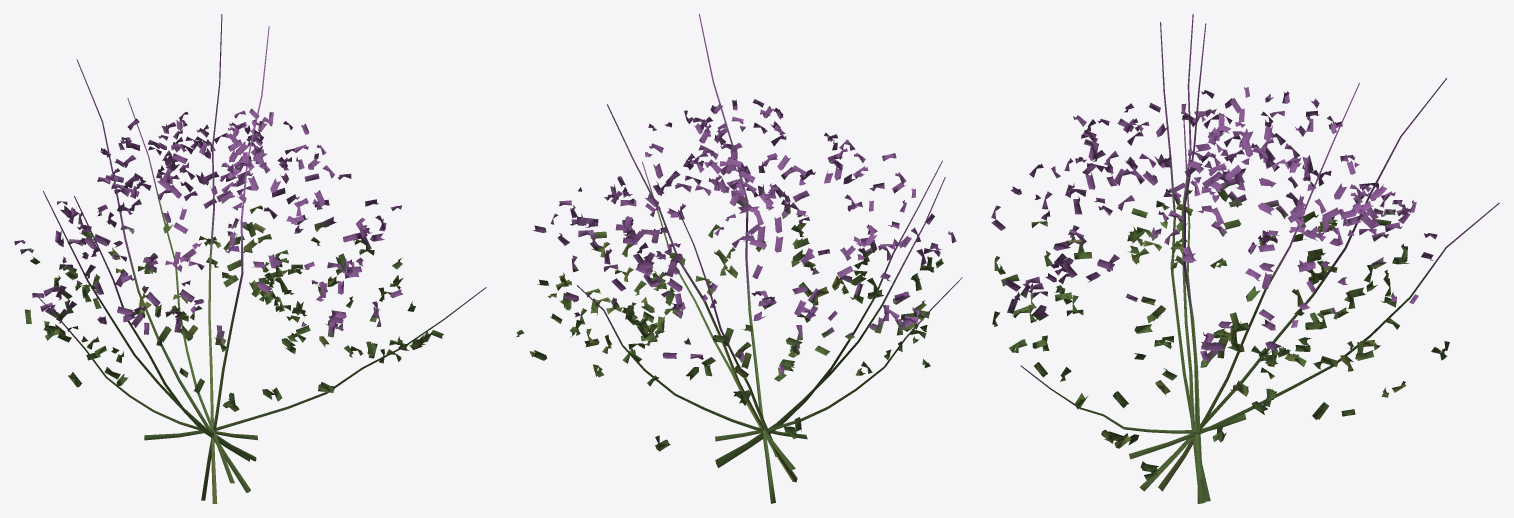
Rendered from capim_florido.glb.
3 views of the same model, side by side, from view 1: azimuth 30°, elevation 25°; view 2: azimuth 150°, elevation 25°; view 3: azimuth 270°, elevation 25° (orthographic). The views are drawn at different scales.
Parts seen in each view (by area): view 1: capim_florido; view 2: capim_florido; view 3: capim_florido.
Boxes of the visible parts, <box> form: capim_florido: <box>14,14,486,503</box>; capim_florido: <box>515,14,962,503</box>; capim_florido: <box>991,14,1499,503</box>.
Bounding box in the file's own units: 0.8409 × 0.9315 × 0.8294.
